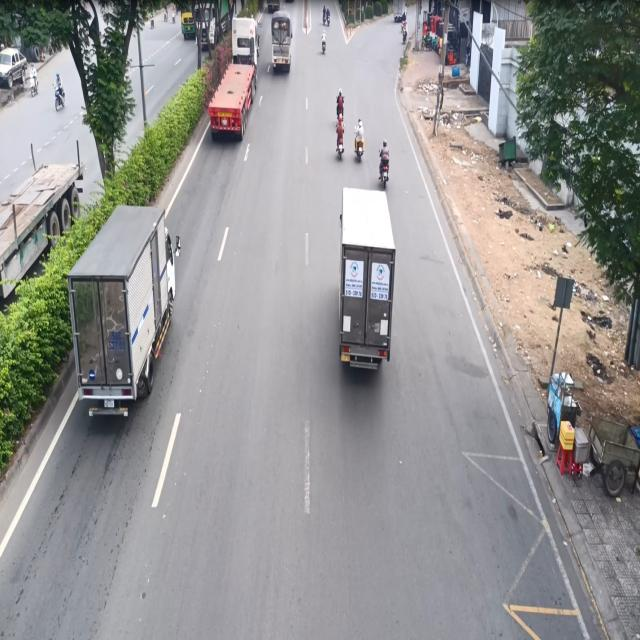motor: (351, 114, 366, 167), (378, 142, 391, 194), (334, 115, 346, 160)
truck: (63, 195, 182, 433), (335, 177, 396, 397), (267, 12, 296, 72)
